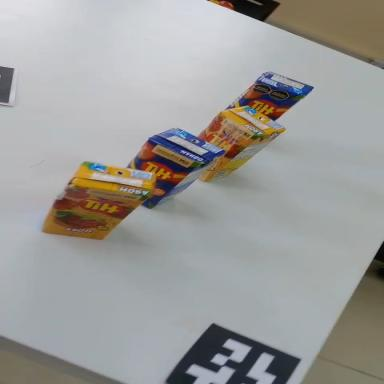HIT-MANGO: (113, 107, 225, 218), (224, 56, 314, 139)
HIT-MORA: (175, 88, 285, 192), (42, 157, 156, 248)
cara_F: (112, 124, 200, 211), (43, 181, 149, 248), (175, 104, 257, 184), (231, 76, 305, 130)
